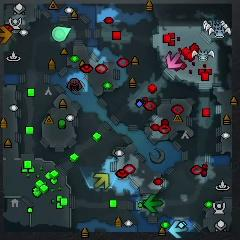p2: (52, 26, 72, 42)
x1: (166, 53, 182, 70)
x2: (93, 172, 110, 189)
x3: (169, 220, 188, 239)
x4: (145, 195, 163, 212)
x5: (0, 26, 13, 45)
